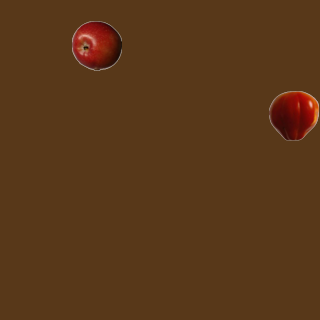Apple Braeburn: (71, 20, 121, 70)
Tomato 1: (268, 90, 318, 140)
